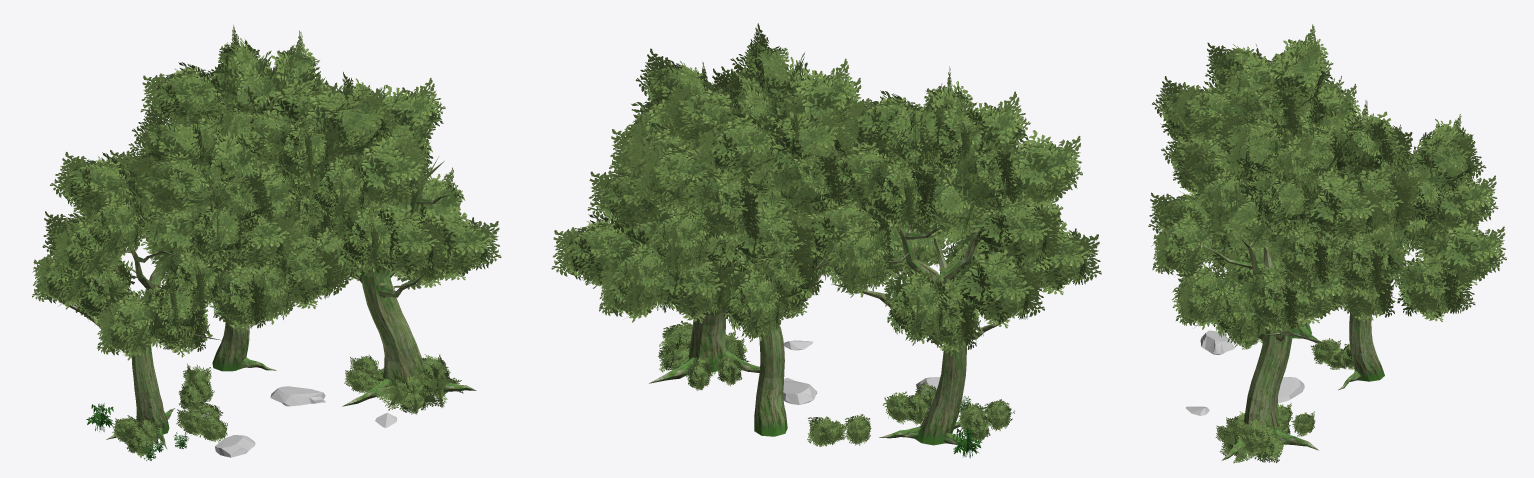
Rendered from SideTrees_L.fbx.
The picture shows the model from 3 angles, left to right: view 1: azimuth 30°, elevation 25°; view 2: azimuth 150°, elevation 25°; view 3: azimuth 270°, elevation 25°; orthographic projection. The views are drawn at different scales.
Visible parts, largest first — view 1: polySurface36652; view 2: polySurface36652; view 3: polySurface36652.
Part boxes in pixels (<box>): polySurface36652: <box>32,25,501,460</box>; polySurface36652: <box>551,23,1101,458</box>; polySurface36652: <box>1148,24,1506,463</box>.
Size of the model in its own units: 170 by 128 by 139.
